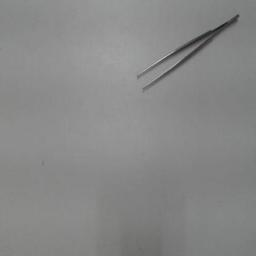Gillies Toothed Dissector: (130, 8, 244, 100)
